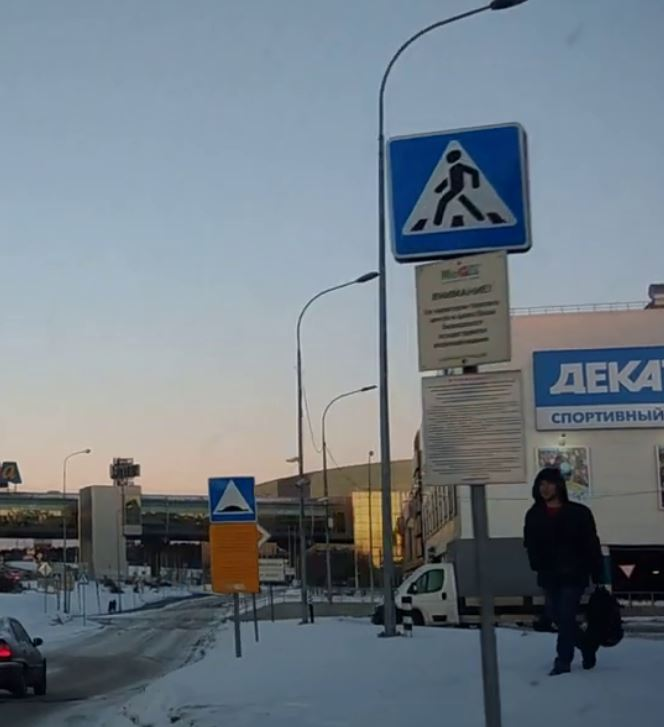Yaya Gecidi: (391, 135, 532, 249)
